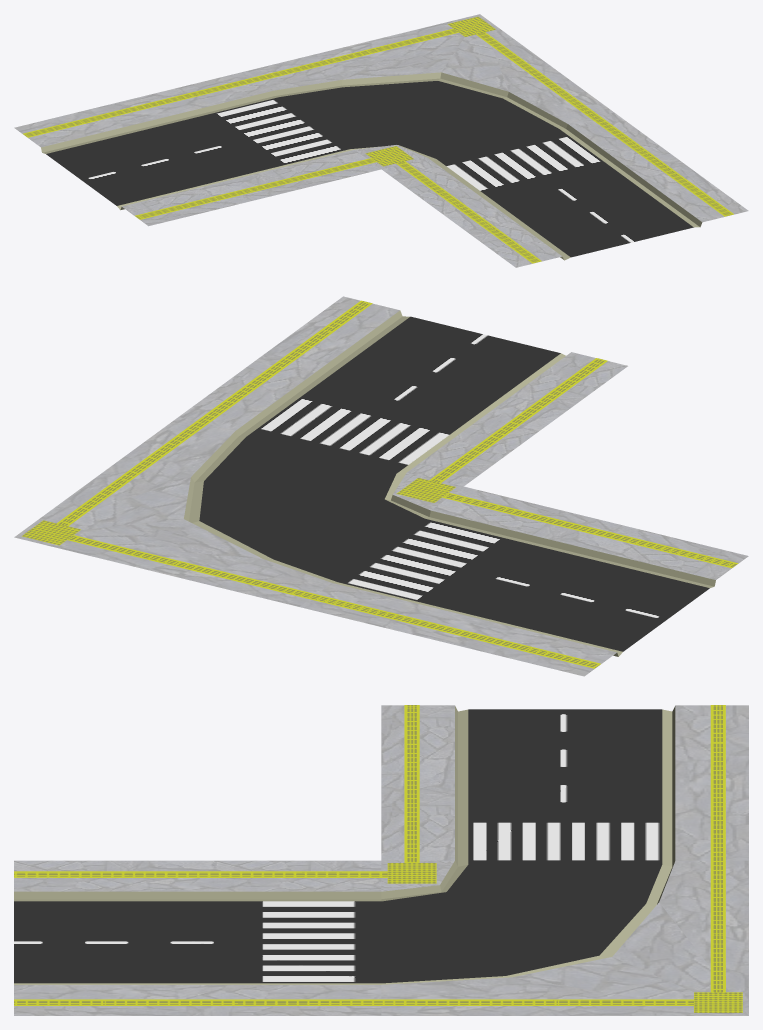
The model's file is RuaCurva2.fbx.
3 renders of one model, top to bottom at view 1: azimuth 30°, elevation 25°; view 2: azimuth 150°, elevation 25°; view 3: azimuth 270°, elevation 25°, orthographic. The views are drawn at different scales.
Visible parts, largest first — view 1: Rua curva1; view 2: Rua curva1; view 3: Rua curva1.
Boxes of the visible parts, x1,y1,x2,y2 form: Rua curva1: [14, 14, 748, 267]; Rua curva1: [14, 296, 748, 676]; Rua curva1: [14, 705, 748, 1015].
Size of the model in its own units: 2400 by 2400 by 23.37.
1 material, 1 textured.
